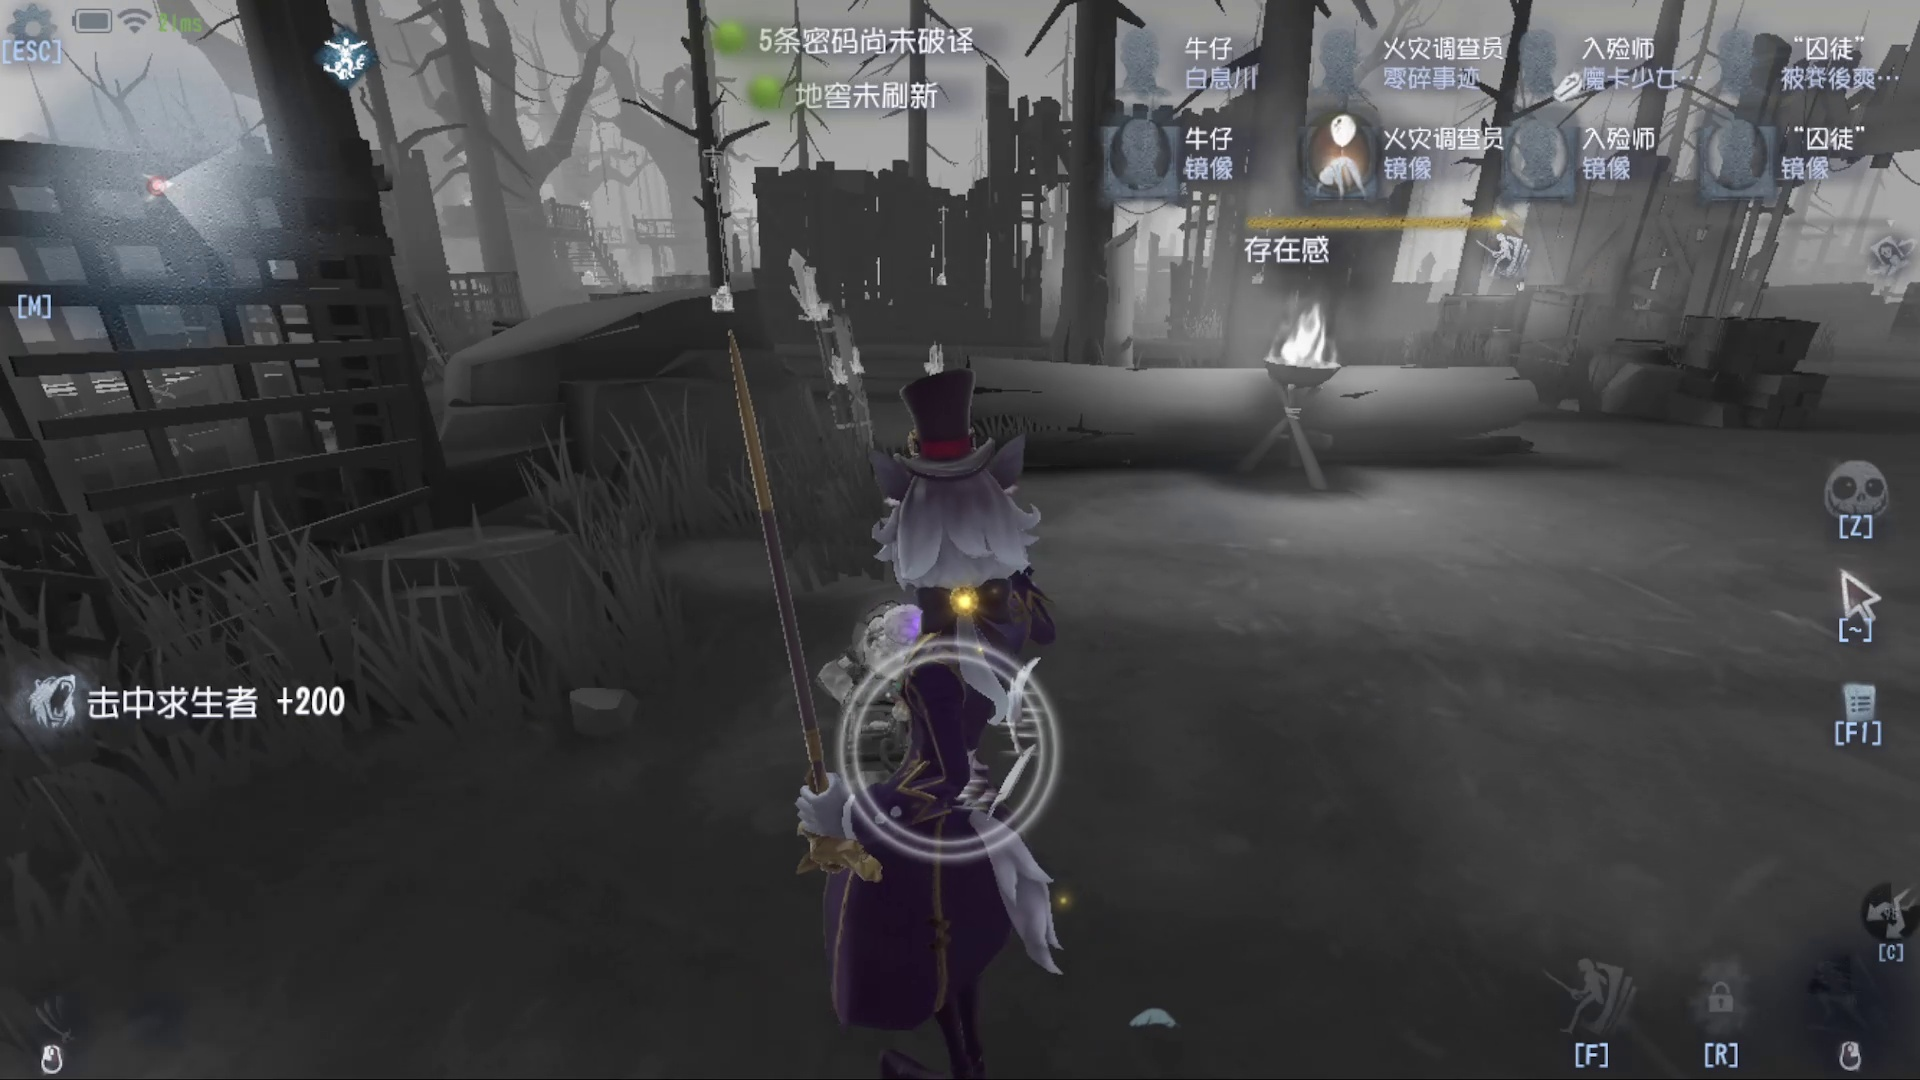木板: (799, 295, 923, 556)
